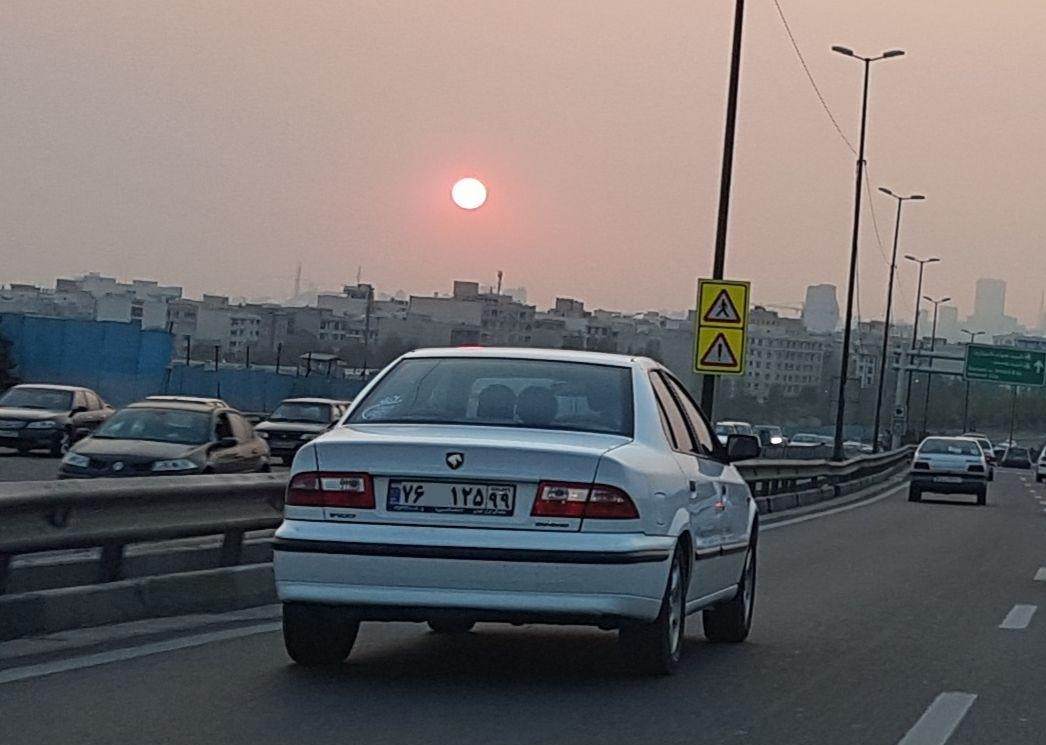car: (387, 481, 519, 516), (931, 476, 960, 485)
